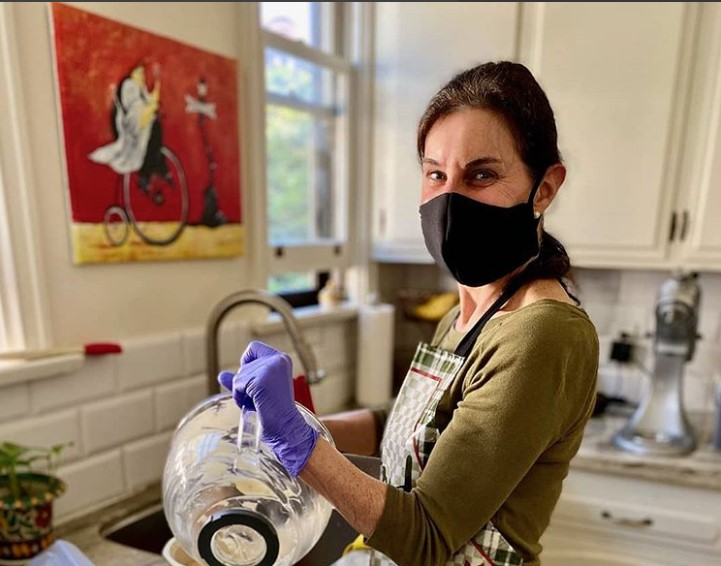face_with_mask: (409, 59, 564, 287)
